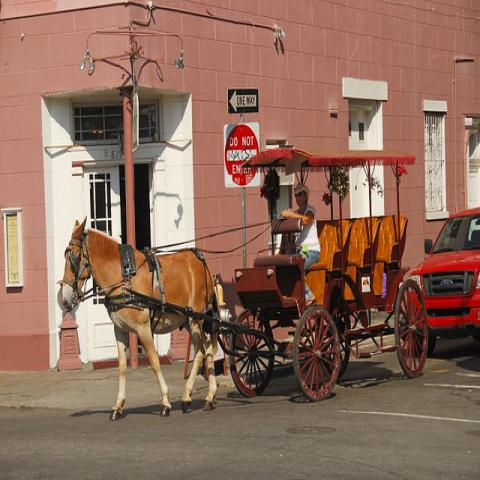car: (411, 202, 479, 351)
